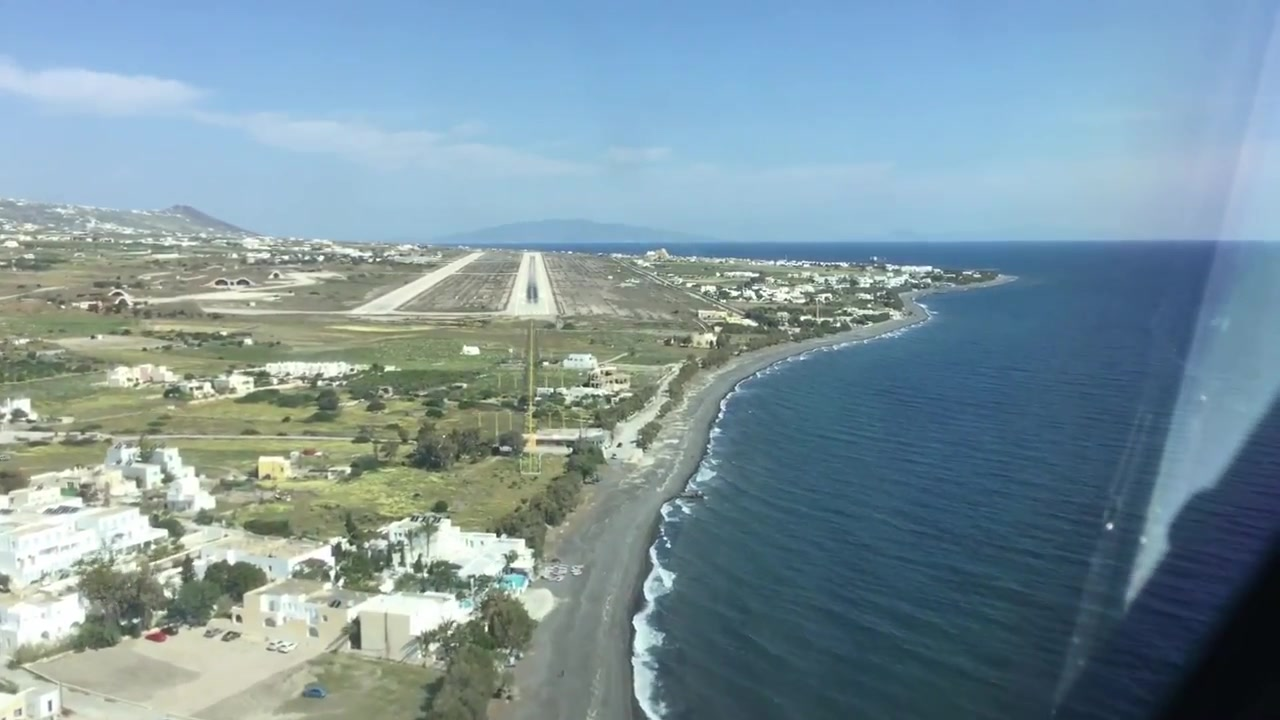runway: (351, 252, 480, 314), (506, 252, 559, 315)
